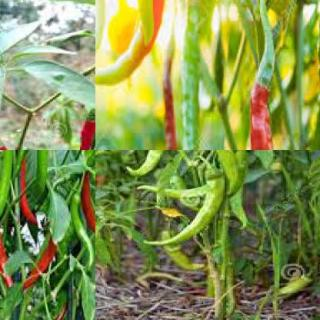green_chilli: (143, 168, 223, 250), (173, 23, 207, 149), (64, 192, 94, 270), (198, 150, 243, 197), (158, 231, 207, 274), (226, 150, 250, 228), (125, 150, 182, 178), (0, 150, 15, 236), (209, 268, 227, 320), (225, 260, 240, 318), (32, 150, 50, 190), (12, 150, 32, 182)
